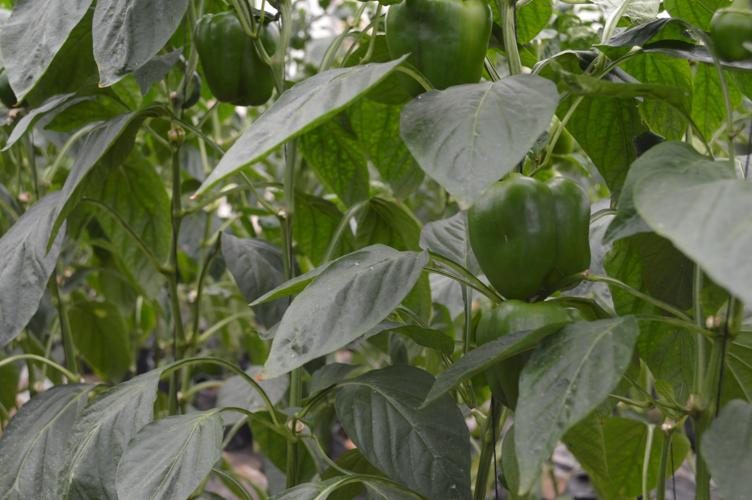BellPepper: (461, 176, 590, 294), (476, 298, 582, 407), (382, 4, 490, 89), (198, 16, 283, 104)
